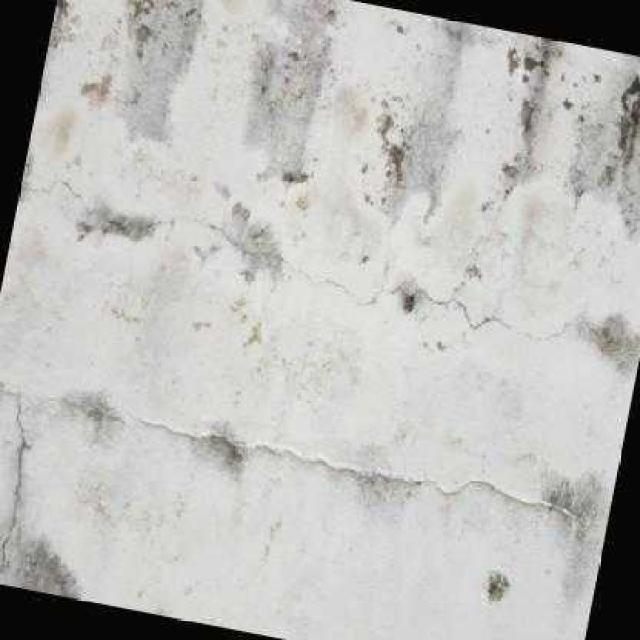D00: (23, 170, 519, 342), (136, 412, 608, 537), (0, 392, 31, 584)
